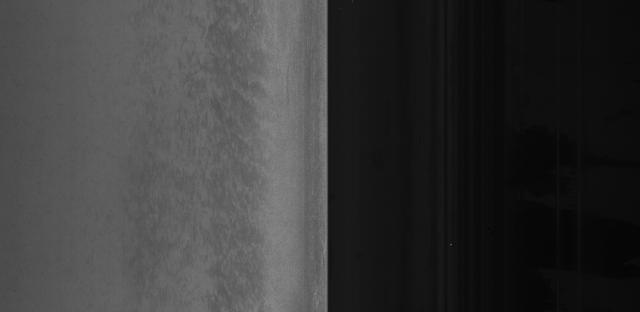silk_spot: (195, 52, 278, 227)
